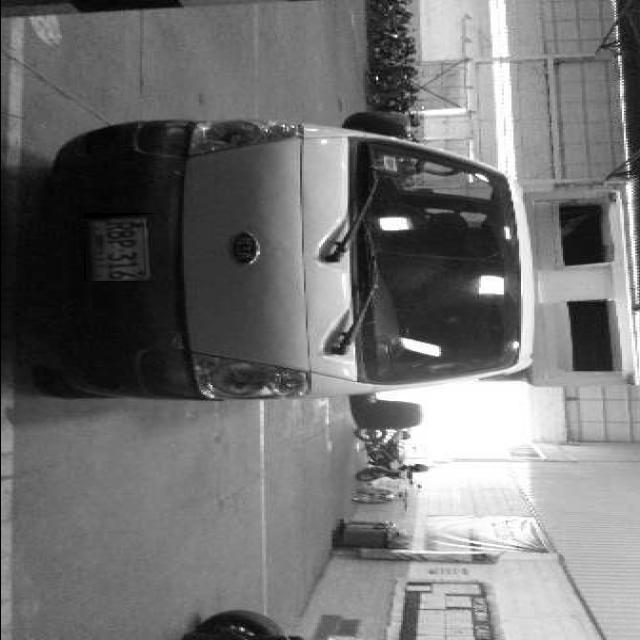plate: (83, 213, 159, 281)
